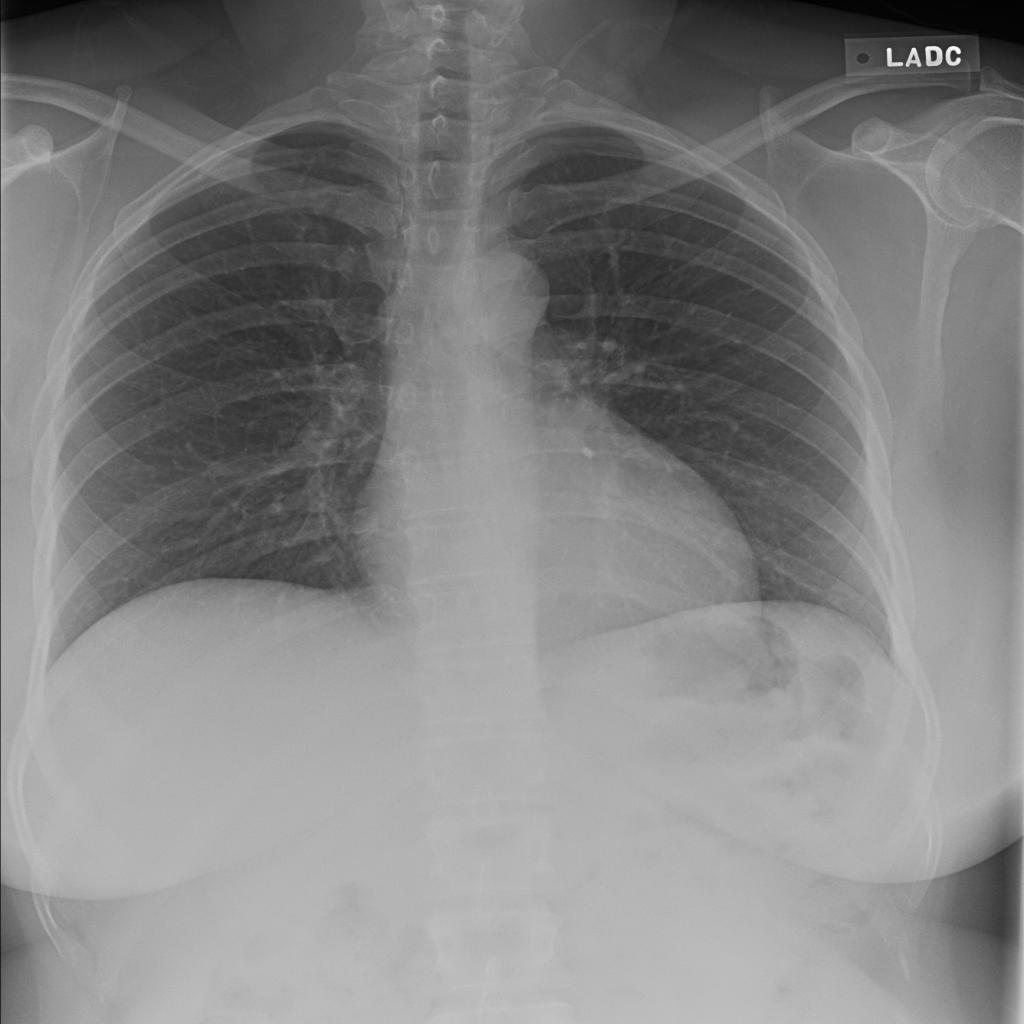Nodule: (419, 227, 462, 276)
